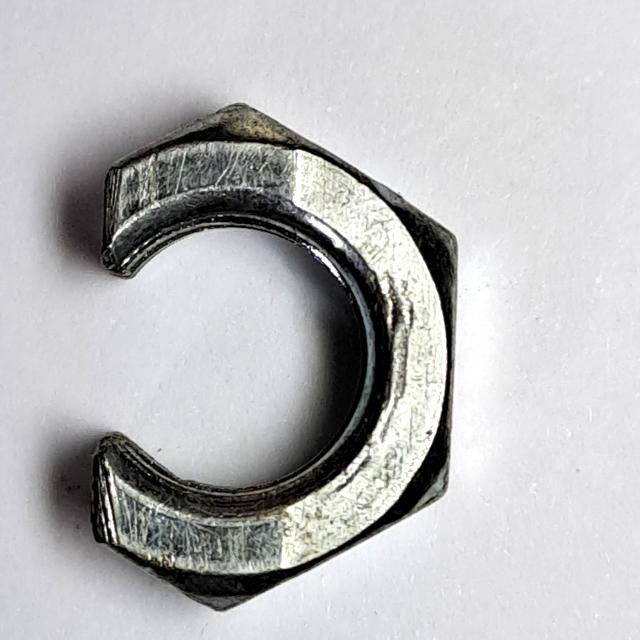Fracture: (77, 93, 472, 632)
